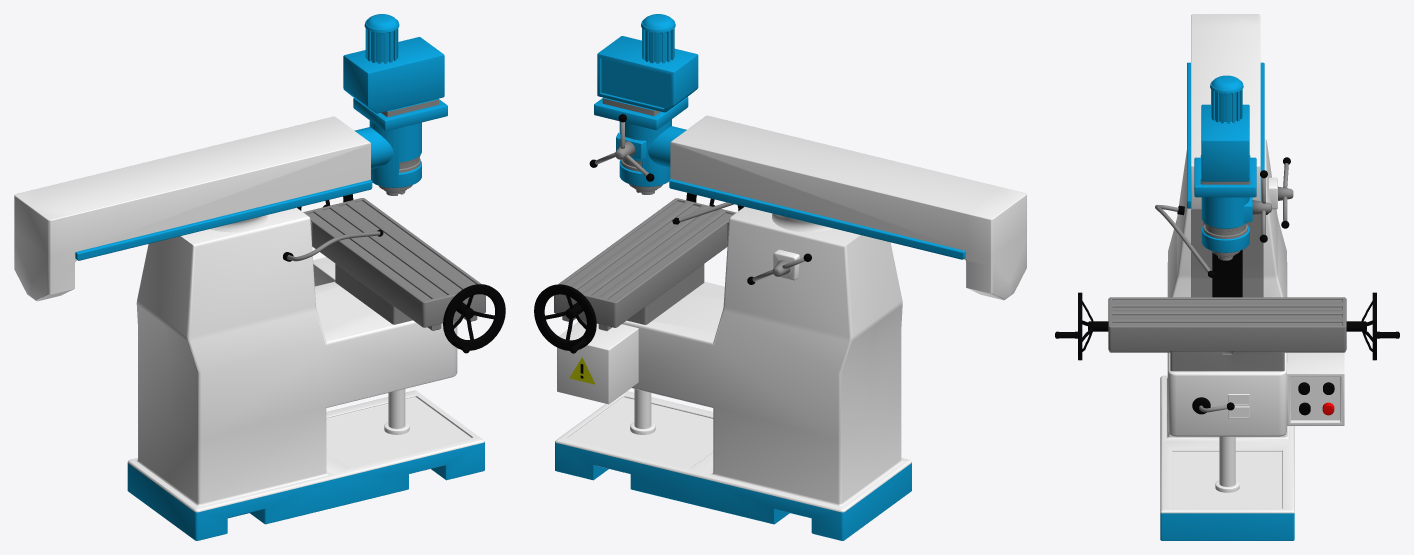
File: Fressadoura.fbx
3 renders of one model, left to right at view 1: azimuth 30°, elevation 25°; view 2: azimuth 150°, elevation 25°; view 3: azimuth 270°, elevation 25°, orthographic. The views are drawn at different scales.
Parts seen in each view (by area): view 1: Fressadoura, Motor, Mesa, ManivelaE; view 2: Fressadoura, Motor, Mesa, ManivelaD, AlavancaMotor, Rotatoria; view 3: Fressadoura, Motor, Mesa, ManivelaE, ManivelaD, AlavancaMotor, Alavanca.
Part boxes in pixels (x1,y1,x2,y2): Fressadoura: (127,207,484,540); Motor: (14,14,447,301); Mesa: (303,198,485,330); ManivelaE: (443,284,505,353); Fressadoura: (555,202,911,540); Motor: (594,14,1026,300); Mesa: (554,198,736,330); ManivelaD: (534,284,596,353); AlavancaMotor: (589,114,654,181); Rotatoria: (772,213,832,232); Fressadoura: (1155,138,1344,540); Motor: (1187,14,1264,260); Mesa: (1108,297,1346,352); ManivelaE: (1055,292,1108,360); ManivelaD: (1346,292,1399,360); AlavancaMotor: (1252,170,1271,242); Alavanca: (1278,157,1293,228).
Bounding box in the file's own units: 394 × 398 × 290.
